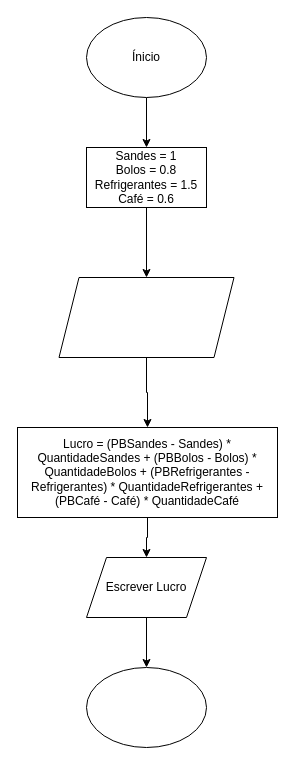
This 295x765 diagram has some shape labels left out. Here are the shapes that lost their labels. From the top down, the centre of each, then its label:
pixel 146 317: Ler Quantiade Ler PreçoPublico
pixel 146 707: Fim
